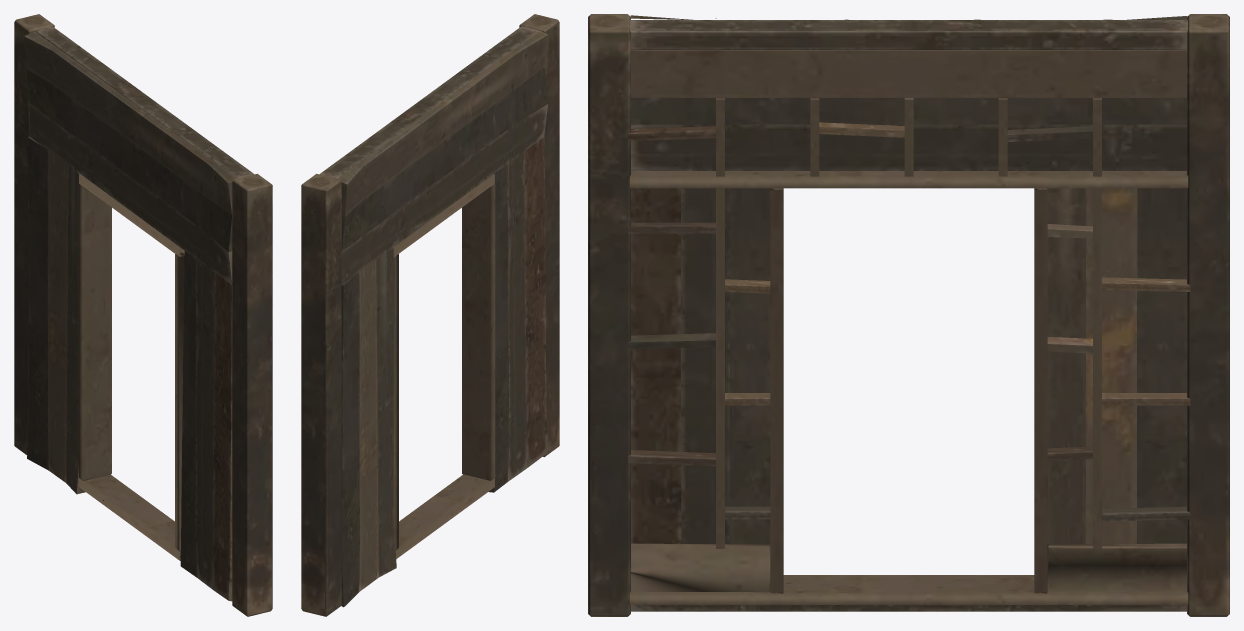
Rendered from wall.doorway.frontier_variant_a.glb.
3 views of the same model, side by side, from view 1: azimuth 30°, elevation 25°; view 2: azimuth 150°, elevation 25°; view 3: azimuth 270°, elevation 25° (orthographic). The views are drawn at different scales.
Parts seen in each view (by area): view 1: wall.doorway_a_LOD0; view 2: wall.doorway_a_LOD0; view 3: wall.doorway_a_LOD0.
Boxes of the visible parts, x1,y1,x2,y2 form: wall.doorway_a_LOD0: [14, 14, 272, 616]; wall.doorway_a_LOD0: [301, 14, 559, 616]; wall.doorway_a_LOD0: [588, 14, 1229, 616].
Bounding box in the file's own units: 0.239 × 3.03 × 3.
1 material, 1 textured.
